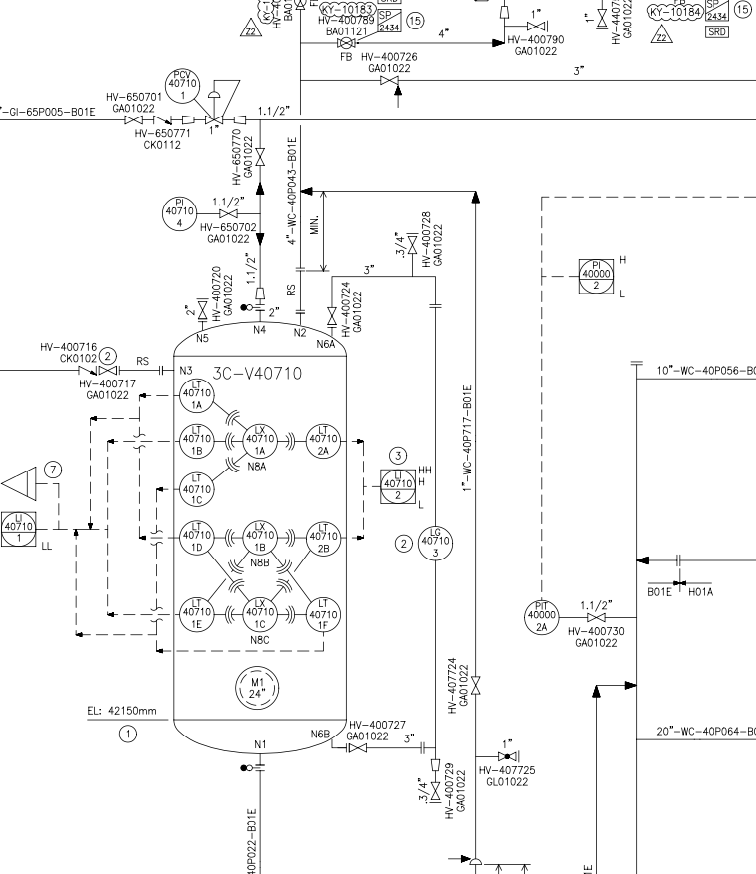Instrument: (239, 419, 284, 463), (521, 593, 563, 640), (237, 591, 280, 636), (300, 516, 346, 558), (175, 515, 217, 559), (305, 593, 344, 638), (240, 515, 281, 557), (416, 522, 458, 563), (302, 419, 343, 461), (177, 591, 217, 634), (160, 193, 201, 234), (177, 468, 216, 511), (177, 374, 218, 414), (163, 64, 203, 104), (175, 421, 217, 459)
Instrument-square: (572, 253, 617, 298), (1, 508, 41, 552), (375, 467, 419, 507)
